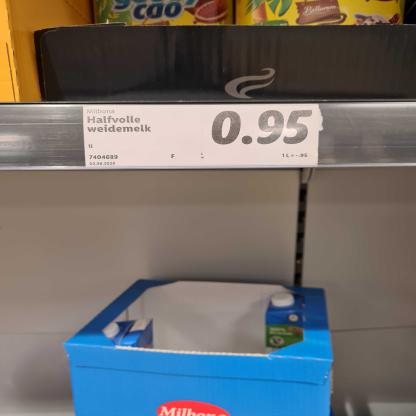prtg: (84, 105, 320, 168)
